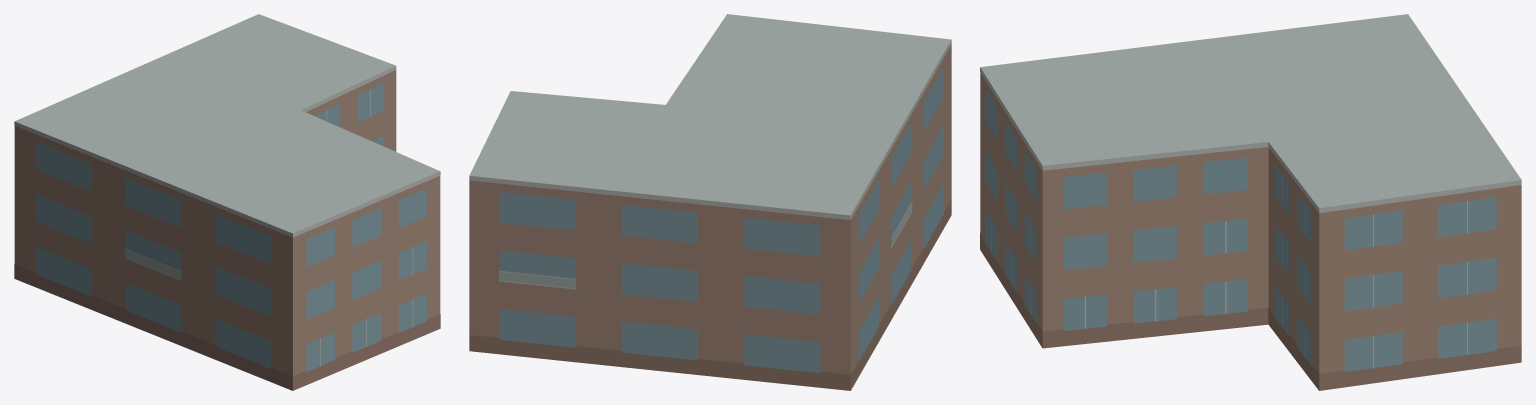
File: survey-upis-32988591.glb
3 views of the same model, side by side, from view 1: azimuth 30°, elevation 25°; view 2: azimuth 150°, elevation 25°; view 3: azimuth 270°, elevation 25° (orthographic). The views are drawn at different scales.
Parts seen in each view (by area): view 1: survey-upis-32988591.tmp; view 2: survey-upis-32988591.tmp; view 3: survey-upis-32988591.tmp.
Boxes of the visible parts, x1,y1,x2,y2 form: survey-upis-32988591.tmp: (14, 14, 440, 390); survey-upis-32988591.tmp: (469, 14, 951, 390); survey-upis-32988591.tmp: (980, 14, 1521, 390).
Bounding box in the file's own units: 20.9 × 9.15 × 24.61.
